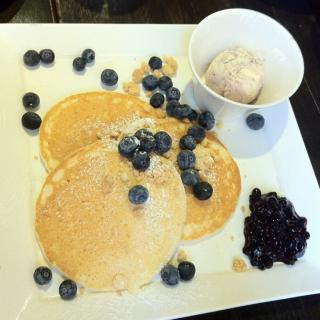Ice cream: (206, 49, 264, 104)
Pancake: (36, 141, 186, 289), (36, 144, 183, 292), (115, 116, 243, 244), (116, 116, 242, 241), (38, 90, 168, 174), (38, 90, 160, 174)
